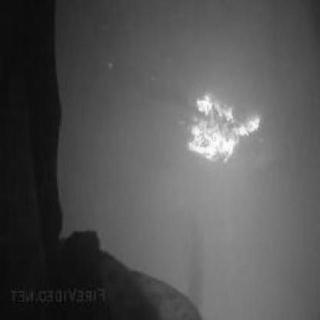Fire: (182, 91, 274, 165)
